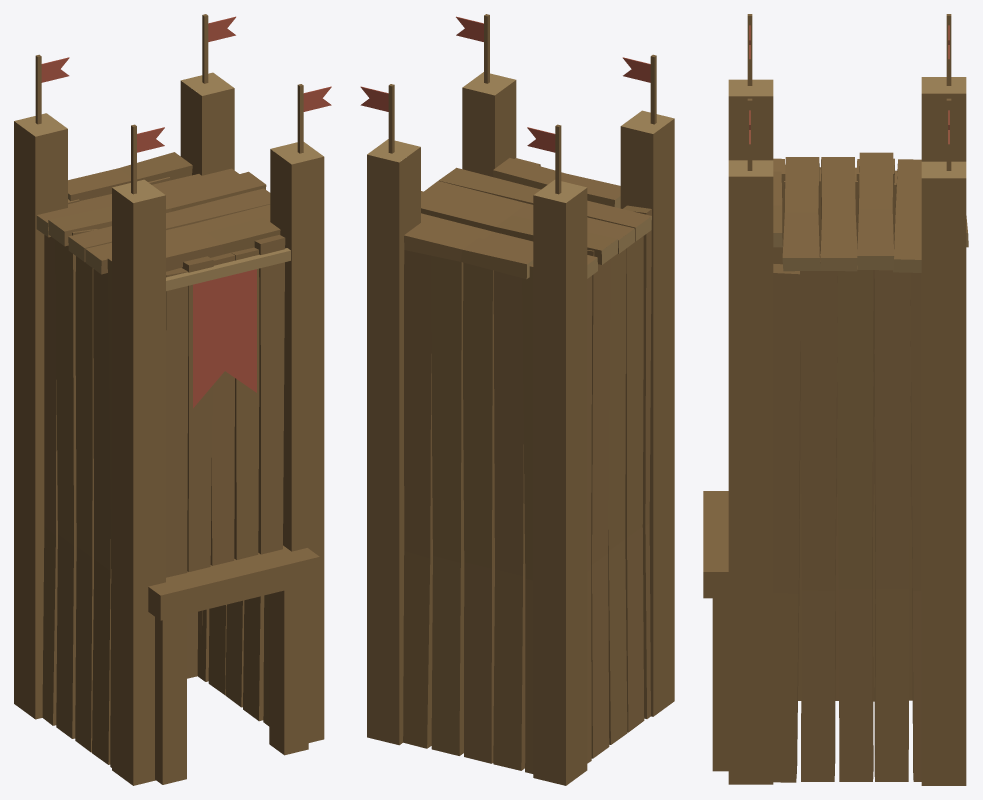
Rendered from tower_mg.glb.
3 views of the same model, side by side, from view 1: azimuth 30°, elevation 25°; view 2: azimuth 150°, elevation 25°; view 3: azimuth 270°, elevation 25° (orthographic). The views are drawn at different scales.
Visible parts, largest first — view 1: WatchTower_FirstAge_Level2; view 2: WatchTower_FirstAge_Level2; view 3: WatchTower_FirstAge_Level2.
Boxes of the visible parts, x1=… form: WatchTower_FirstAge_Level2: x1=14, y1=14, x2=331, y2=785; WatchTower_FirstAge_Level2: x1=360, y1=14, x2=674, y2=785; WatchTower_FirstAge_Level2: x1=703, y1=14, x2=968, y2=785.
Size of the model in its own units: 0.505 by 1.46 by 0.5193.
